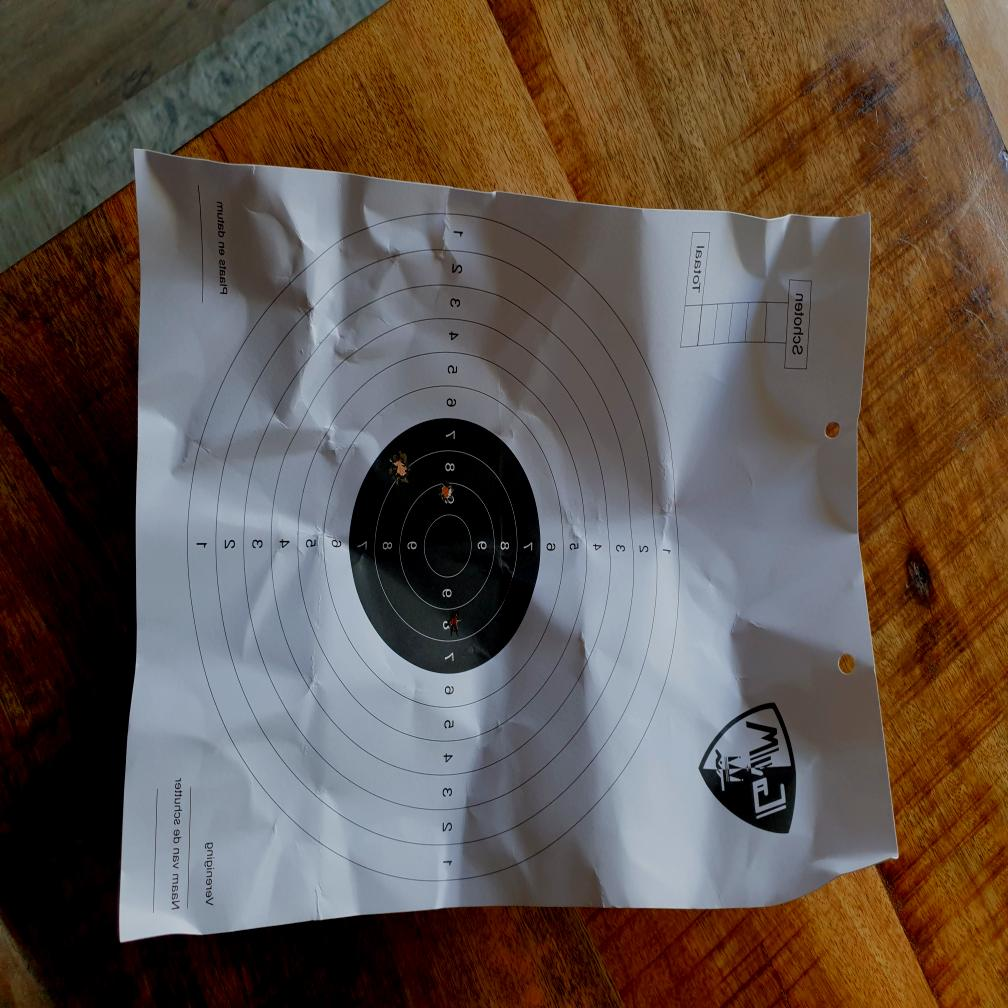8: (389, 451, 410, 484)
9: (446, 609, 463, 638), (438, 480, 453, 503)
Target: (185, 211, 681, 884)
black_contour: (349, 417, 541, 673)
